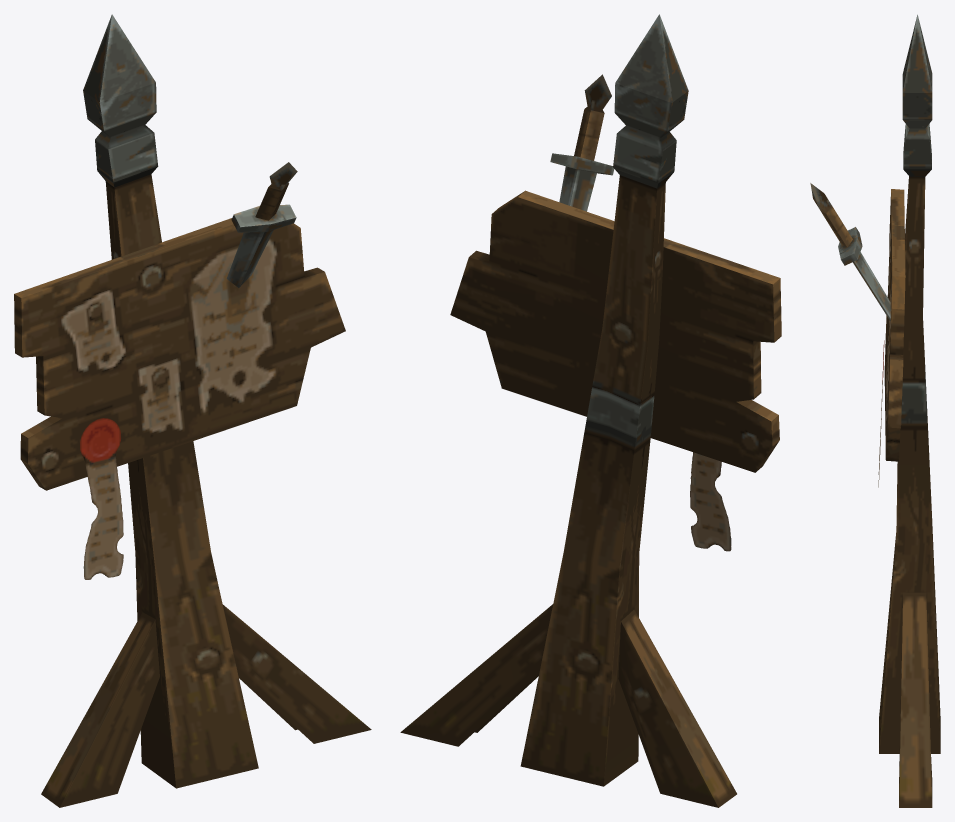
Rendered from bounty_board_01_33b2c35e.glb.
3 renders of one model, left to right at view 1: azimuth 30°, elevation 25°; view 2: azimuth 150°, elevation 25°; view 3: azimuth 270°, elevation 25°, orthographic. The views are drawn at different scales.
Size of the model in its own units: 2.65 by 5.49 by 0.9443.
1 material, 1 textured.
